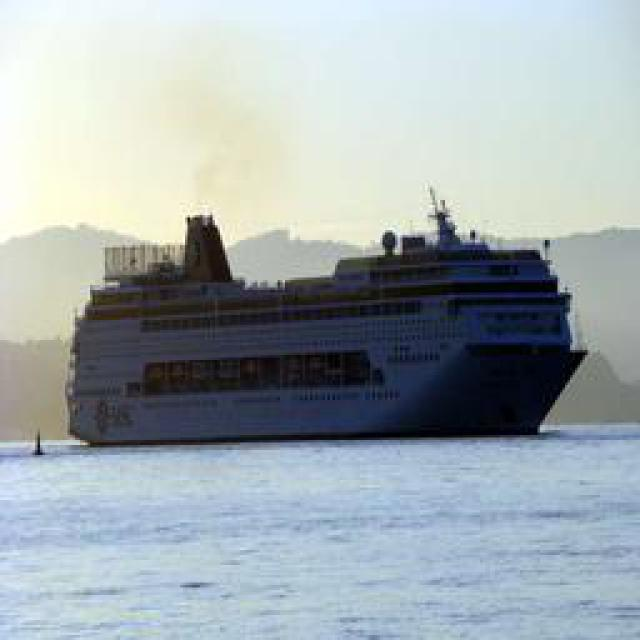Ship: (74, 187, 584, 447)
